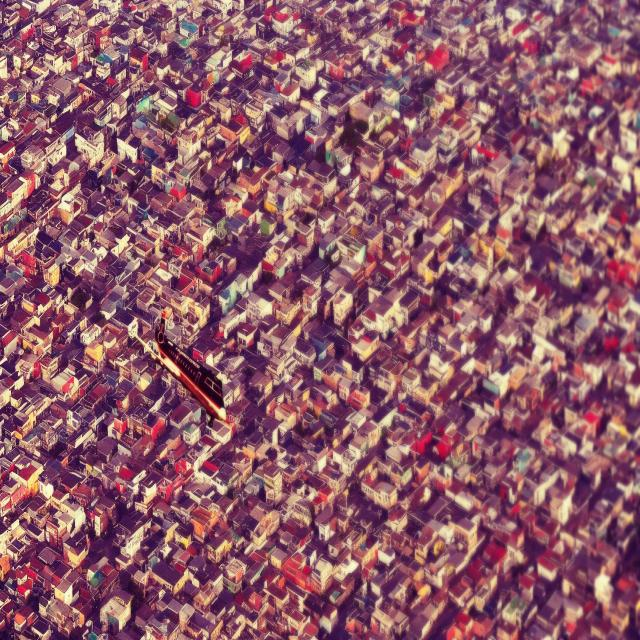airplane: (127, 314, 229, 427)
